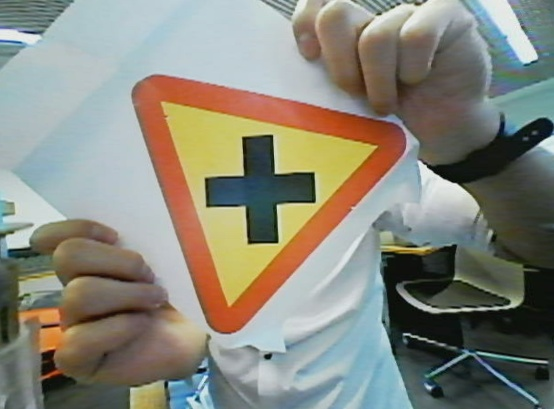junction: (116, 60, 410, 348)
